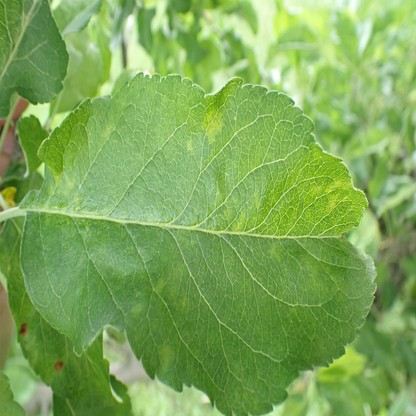frogeye_leaf_spot: (19, 323, 27, 338), (54, 362, 63, 370)
powdery_mildew: (357, 246, 377, 279)
scab: (48, 161, 76, 194), (157, 344, 173, 383), (205, 110, 222, 139), (325, 195, 338, 216), (326, 179, 344, 192), (154, 274, 166, 293), (236, 208, 247, 228), (271, 241, 281, 260), (104, 122, 116, 135), (255, 189, 262, 210), (131, 305, 143, 315), (224, 208, 229, 215)
